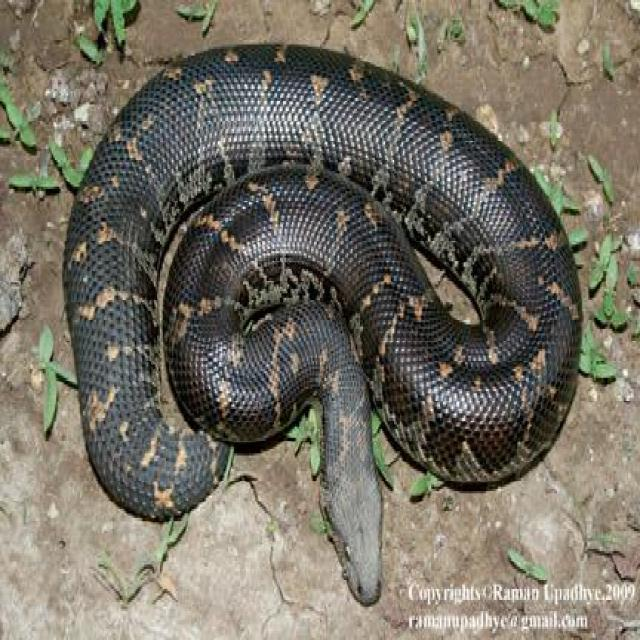Snake: (61, 38, 582, 606)
